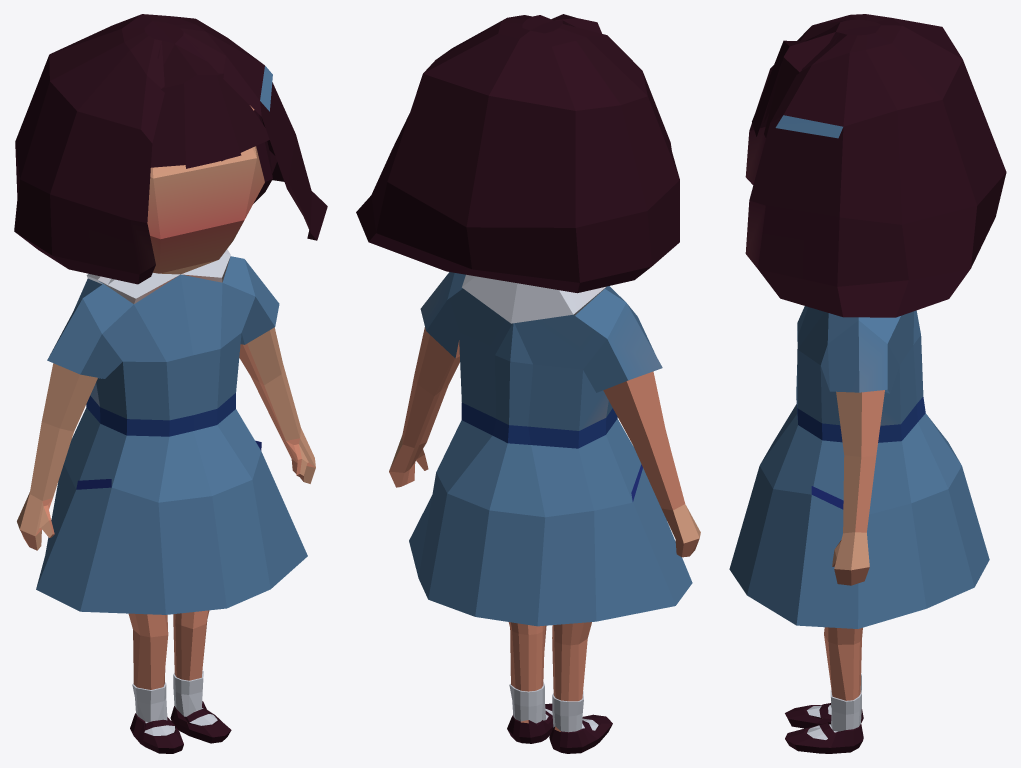
Rendered from lina-6-paint.fbx.
3 views of the same model, side by side, from view 1: azimuth 30°, elevation 25°; view 2: azimuth 150°, elevation 25°; view 3: azimuth 270°, elevation 25° (orthographic). The views are drawn at different scales.
Visible parts, largest first — view 1: lina; view 2: lina; view 3: lina.
Part boxes in pixels (x1,y1,x2,y2): lina: (14,14,327,753); lina: (356,14,700,753); lina: (729,14,1006,753).
Size of the model in its own units: 39.12 by 84.51 by 29.88.
